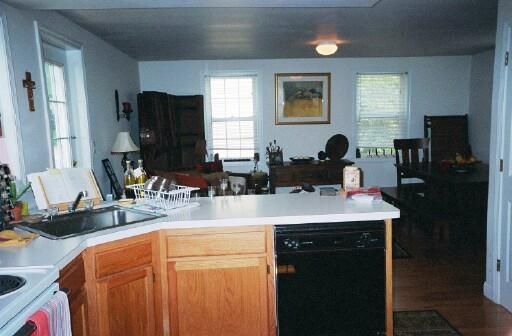Electrodomestico: (275, 215, 387, 335)
Lavaplatos: (21, 196, 172, 243)
